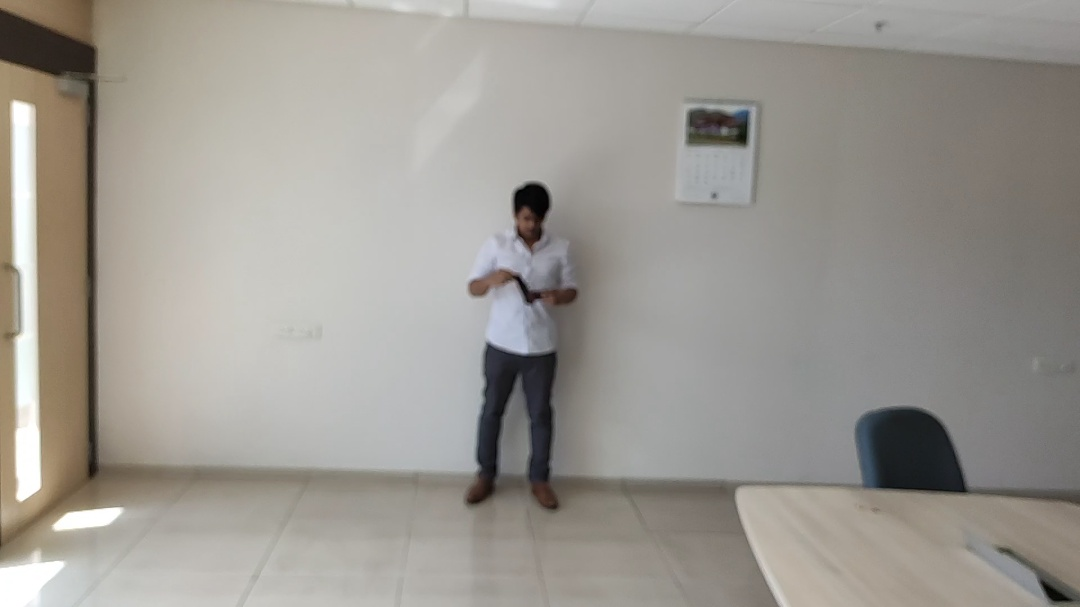gun: (332, 231, 769, 561)
